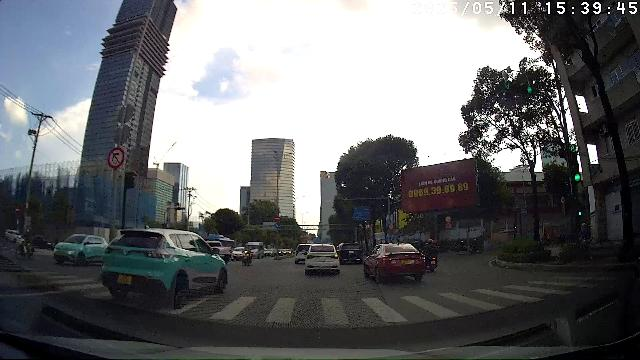103b-cam-oto-re-phai: (107, 146, 125, 169)
